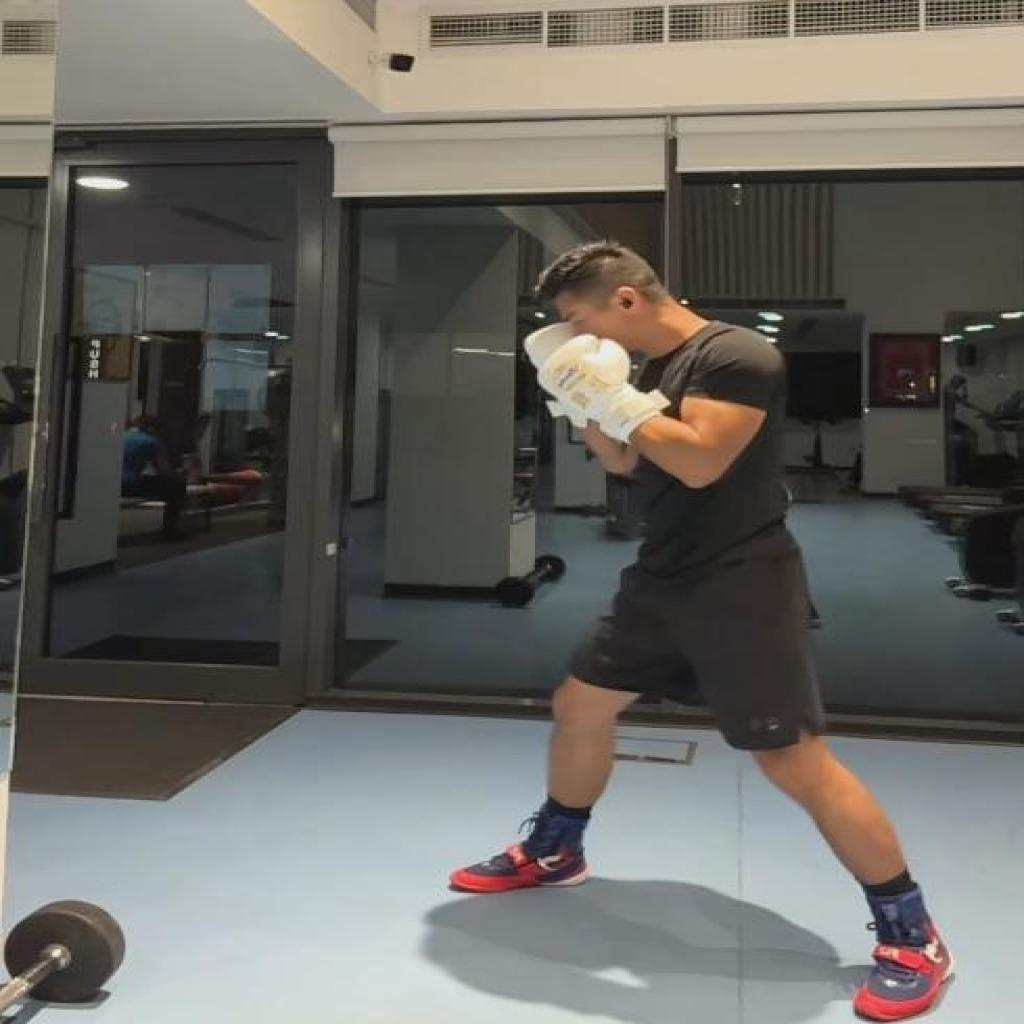no punch: (445, 238, 966, 1024)
